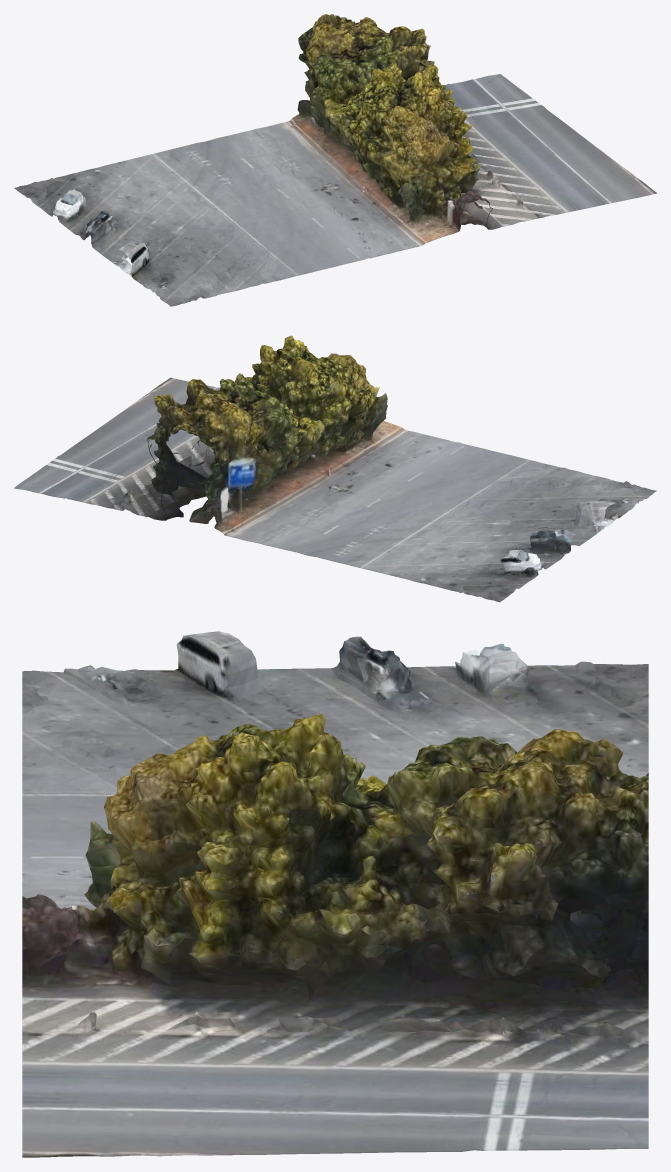
File: BlockYXBA_L19_4.glb
3 renders of one model, top to bottom at view 1: azimuth 30°, elevation 25°; view 2: azimuth 150°, elevation 25°; view 3: azimuth 270°, elevation 25°, orthographic. The views are drawn at different scales.
Visible parts, largest first — view 1: rtc; view 2: rtc; view 3: rtc.
Part boxes in pixels (left/top/right/bottom): rtc: left=14, top=14, right=656, bottom=306; rtc: left=14, top=335, right=656, bottom=602; rtc: left=22, top=631, right=648, bottom=1157.
Size of the model in its own units: 43.62 by 10.63 by 24.33.
2 materials, 2 textured.
